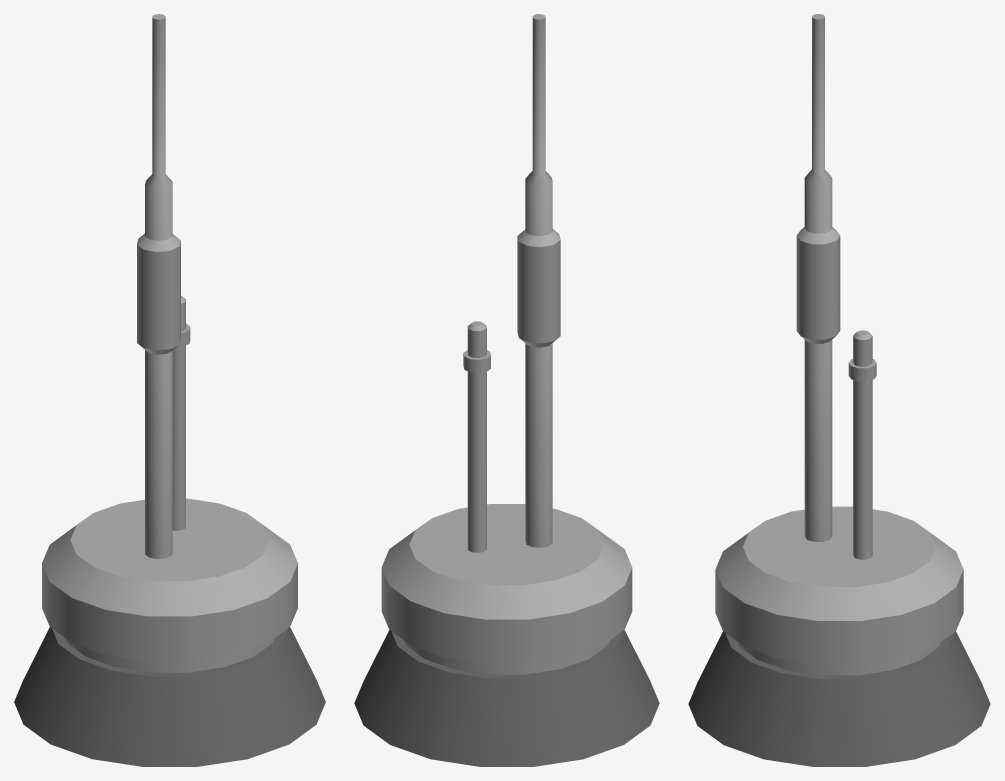
The model's file is roof-antenna.glb.
3 renders of one model, left to right at view 1: azimuth 30°, elevation 25°; view 2: azimuth 150°, elevation 25°; view 3: azimuth 270°, elevation 25°, orthographic. The views are drawn at different scales.
Parts seen in each view (by area): view 1: Roof_Antenna; view 2: Roof_Antenna; view 3: Roof_Antenna.
Part boxes in pixels (left/top/right/bottom): Roof_Antenna: left=14, top=14, right=325, bottom=766; Roof_Antenna: left=354, top=14, right=659, bottom=766; Roof_Antenna: left=688, top=14, right=990, bottom=766.
Size of the model in its own units: 0.3985 by 1 by 0.4046.
Materials: 1 (1 with a texture image).
